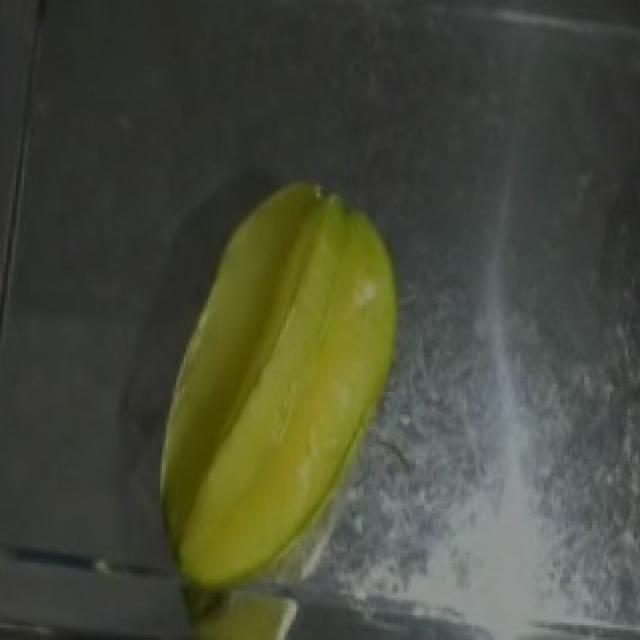fruit: (158, 166, 442, 543)
